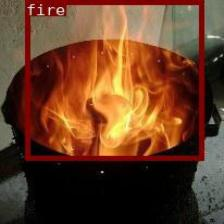fire: (24, 0, 202, 159)
